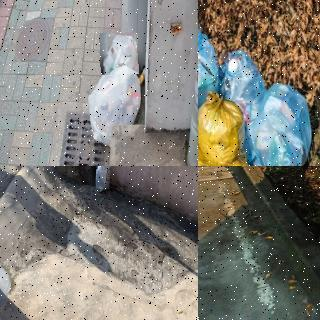Garbage: (249, 83, 315, 166), (198, 90, 263, 166), (86, 67, 143, 147), (220, 50, 267, 117), (198, 28, 220, 112), (100, 32, 139, 75), (93, 166, 114, 194)
